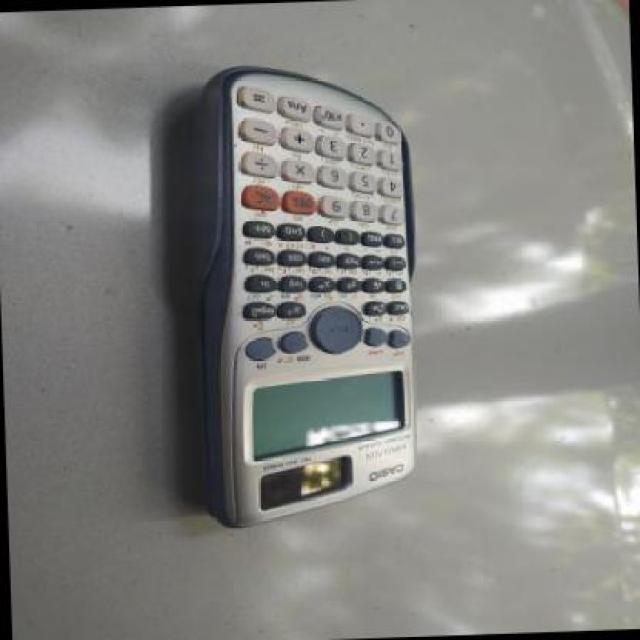Calculator: (151, 52, 438, 534)
